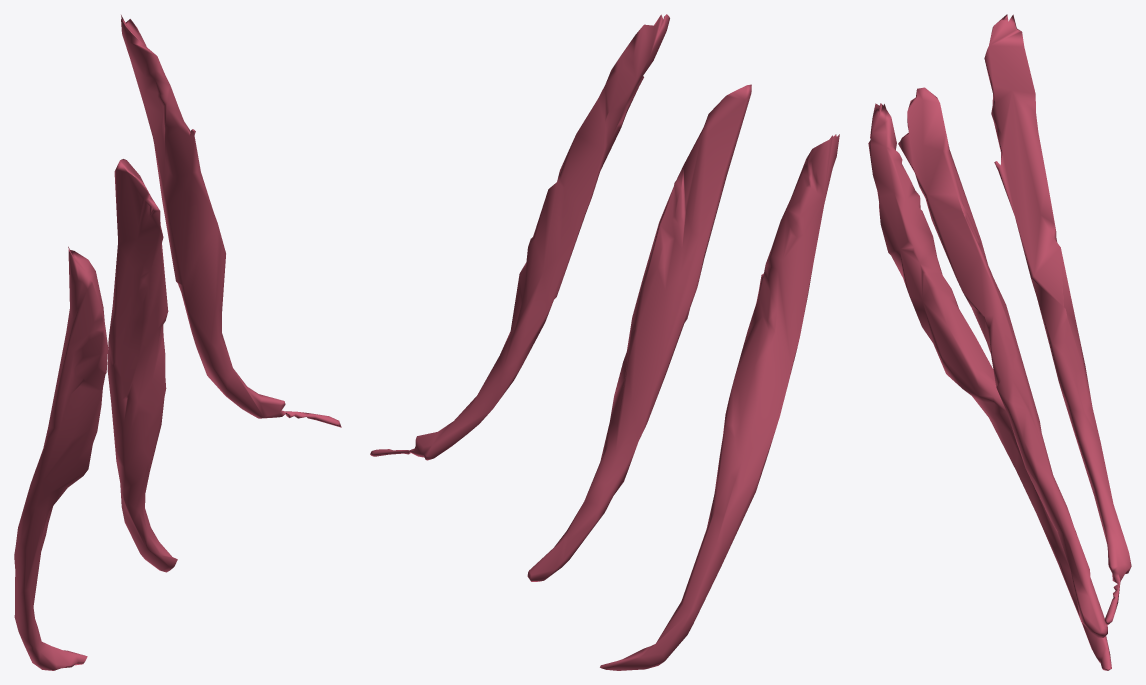
3 views of the same model, side by side, from view 1: azimuth 30°, elevation 25°; view 2: azimuth 150°, elevation 25°; view 3: azimuth 270°, elevation 25° (orthographic). The views are drawn at different scales.
Visible parts, largest first — view 1: 左侧骨间足底肌; view 2: 左侧骨间足底肌; view 3: 左侧骨间足底肌.
Part boxes in pixels (<box>): 左侧骨间足底肌: <box>14,15,341,670</box>; 左侧骨间足底肌: <box>370,14,839,670</box>; 左侧骨间足底肌: <box>868,14,1131,670</box>.
Bounding box in the file's own units: 0.0633 × 0.1058 × 0.0387.
